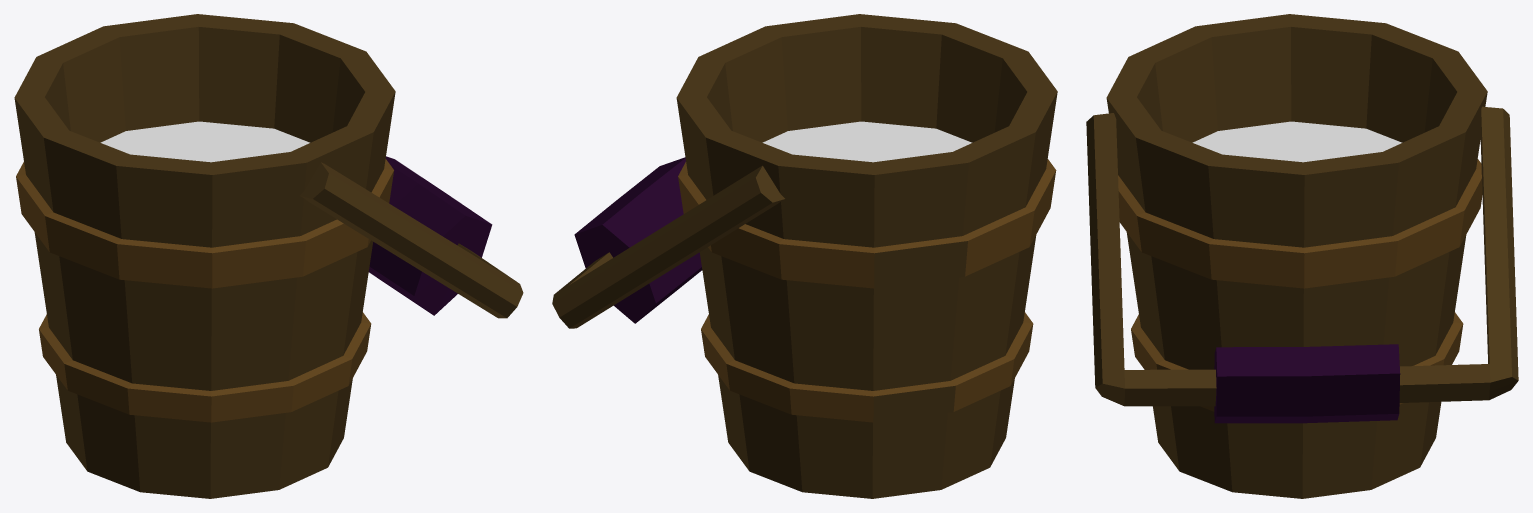
File: wooden_bucket_milk.fbx
3 views of the same model, side by side, from view 1: azimuth 30°, elevation 25°; view 2: azimuth 150°, elevation 25°; view 3: azimuth 270°, elevation 25° (orthographic).
Parts seen in each view (by area): view 1: wooden_bucket_milk; view 2: wooden_bucket_milk; view 3: wooden_bucket_milk.
Boxes of the visible parts, <box> form: wooden_bucket_milk: <box>14,14,523,498</box>; wooden_bucket_milk: <box>552,14,1057,498</box>; wooden_bucket_milk: <box>1086,14,1518,498</box>.
Size of the model in its own units: 71.27 by 57.08 by 64.68.
